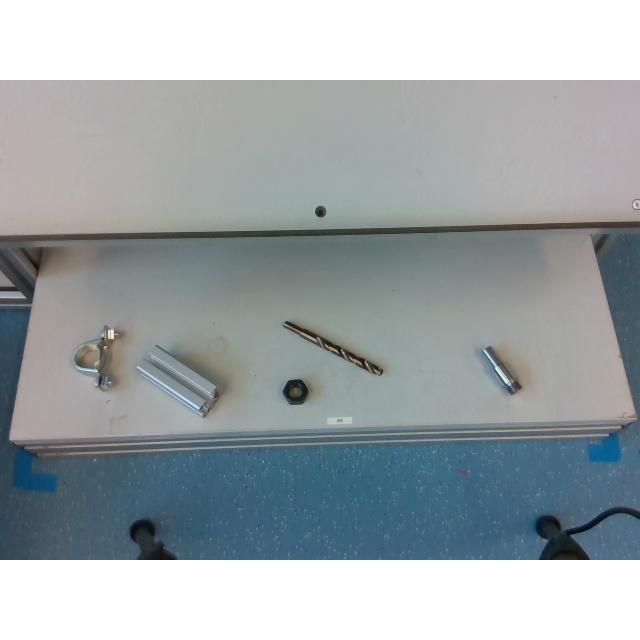Axis2: (482, 346, 524, 394)
Drill: (281, 321, 384, 377)
Housing: (72, 327, 118, 387)
M20: (282, 378, 308, 402)
S40_40_G: (136, 346, 220, 416)
